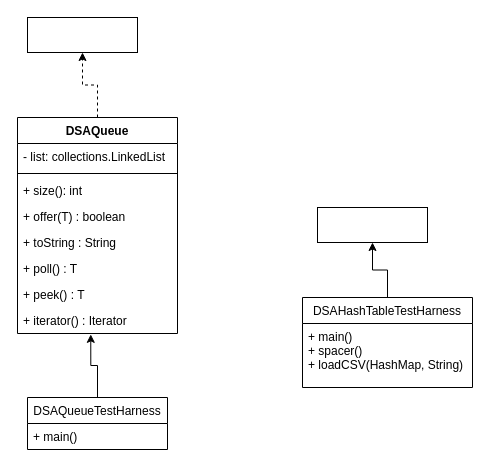
The diagram is 490 pixels wide and 470 high, and some of its shapes have lost their labels. The shapes that lost their labels are listed below. From the top down, each one's centre as x and y in pixels, then its label:
At (82,34): "<<Interface>> AbstractQueue".
At (372,224): "<<Interface>> Hash Map".
